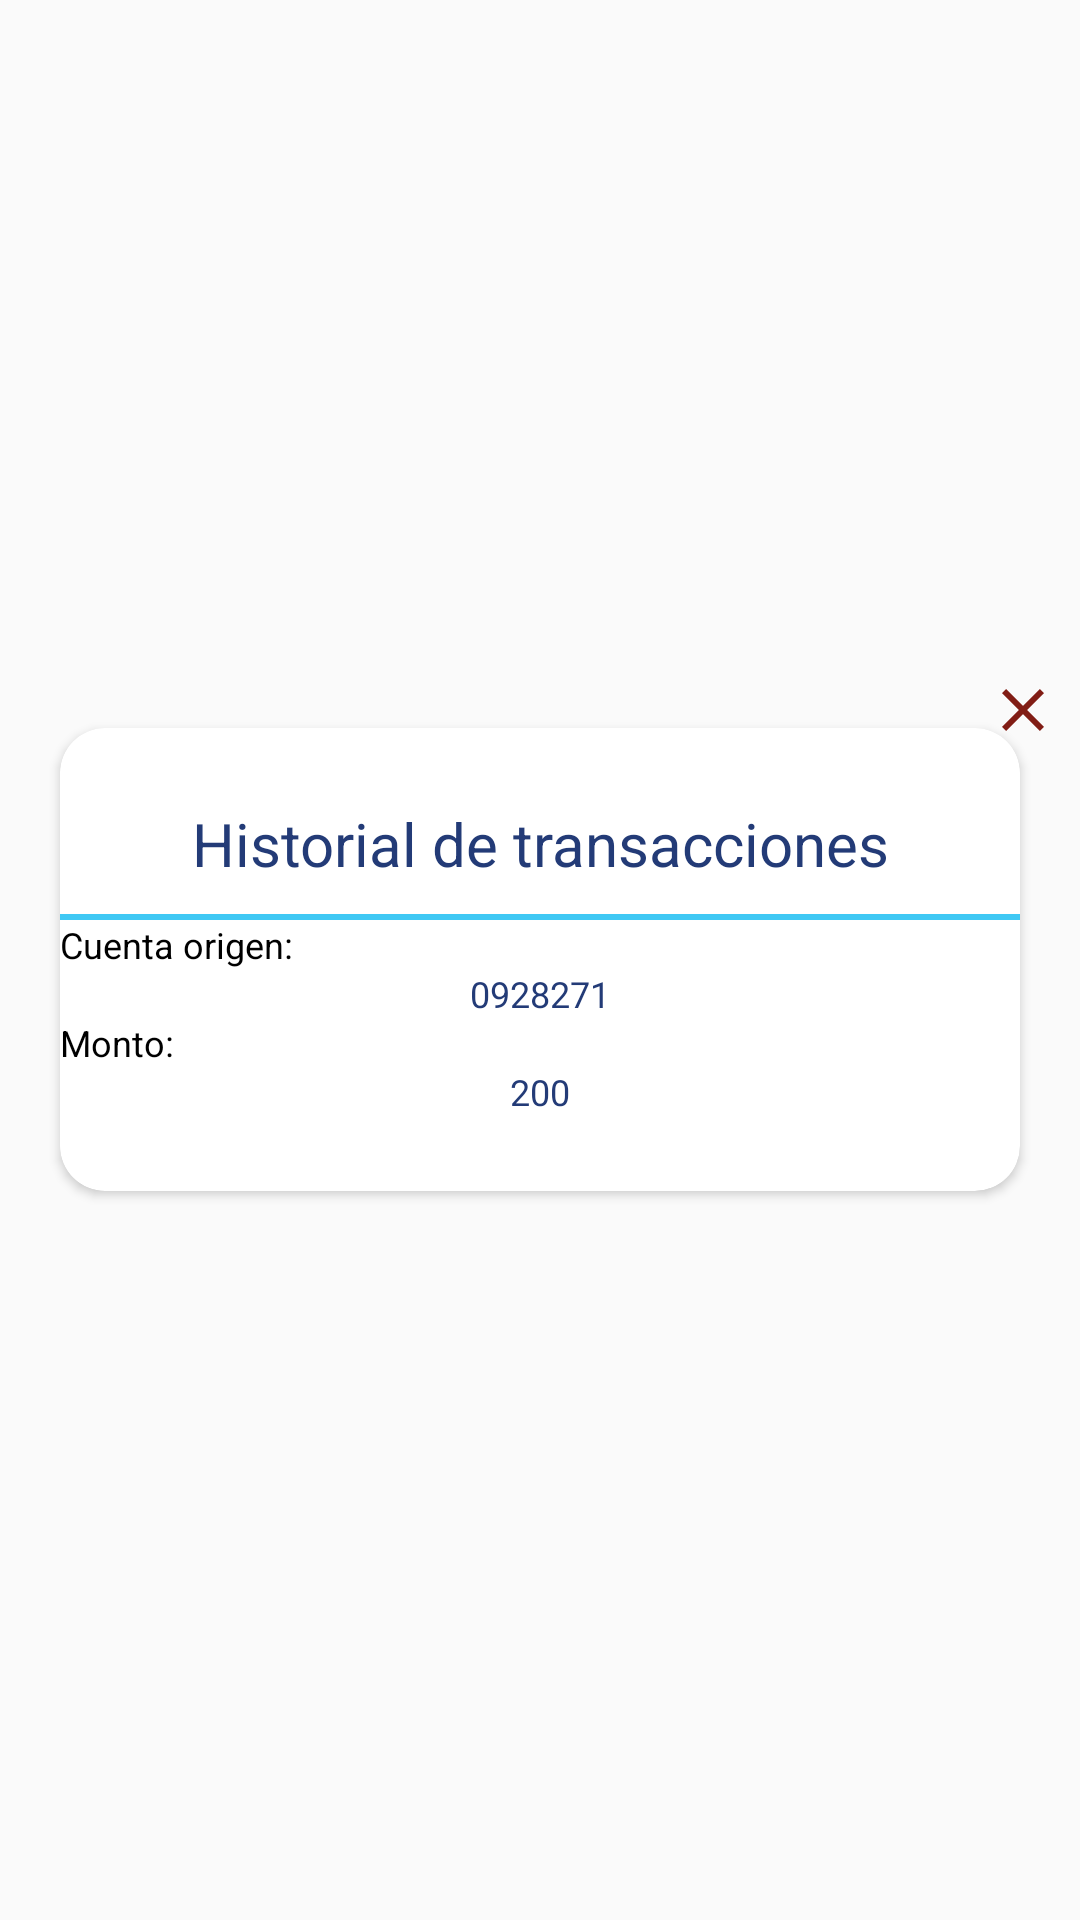

Icons on this 1080×1920 Android screen, each with its box as (x1, y1, x2, y2):
close: (1002, 689, 1044, 731)
